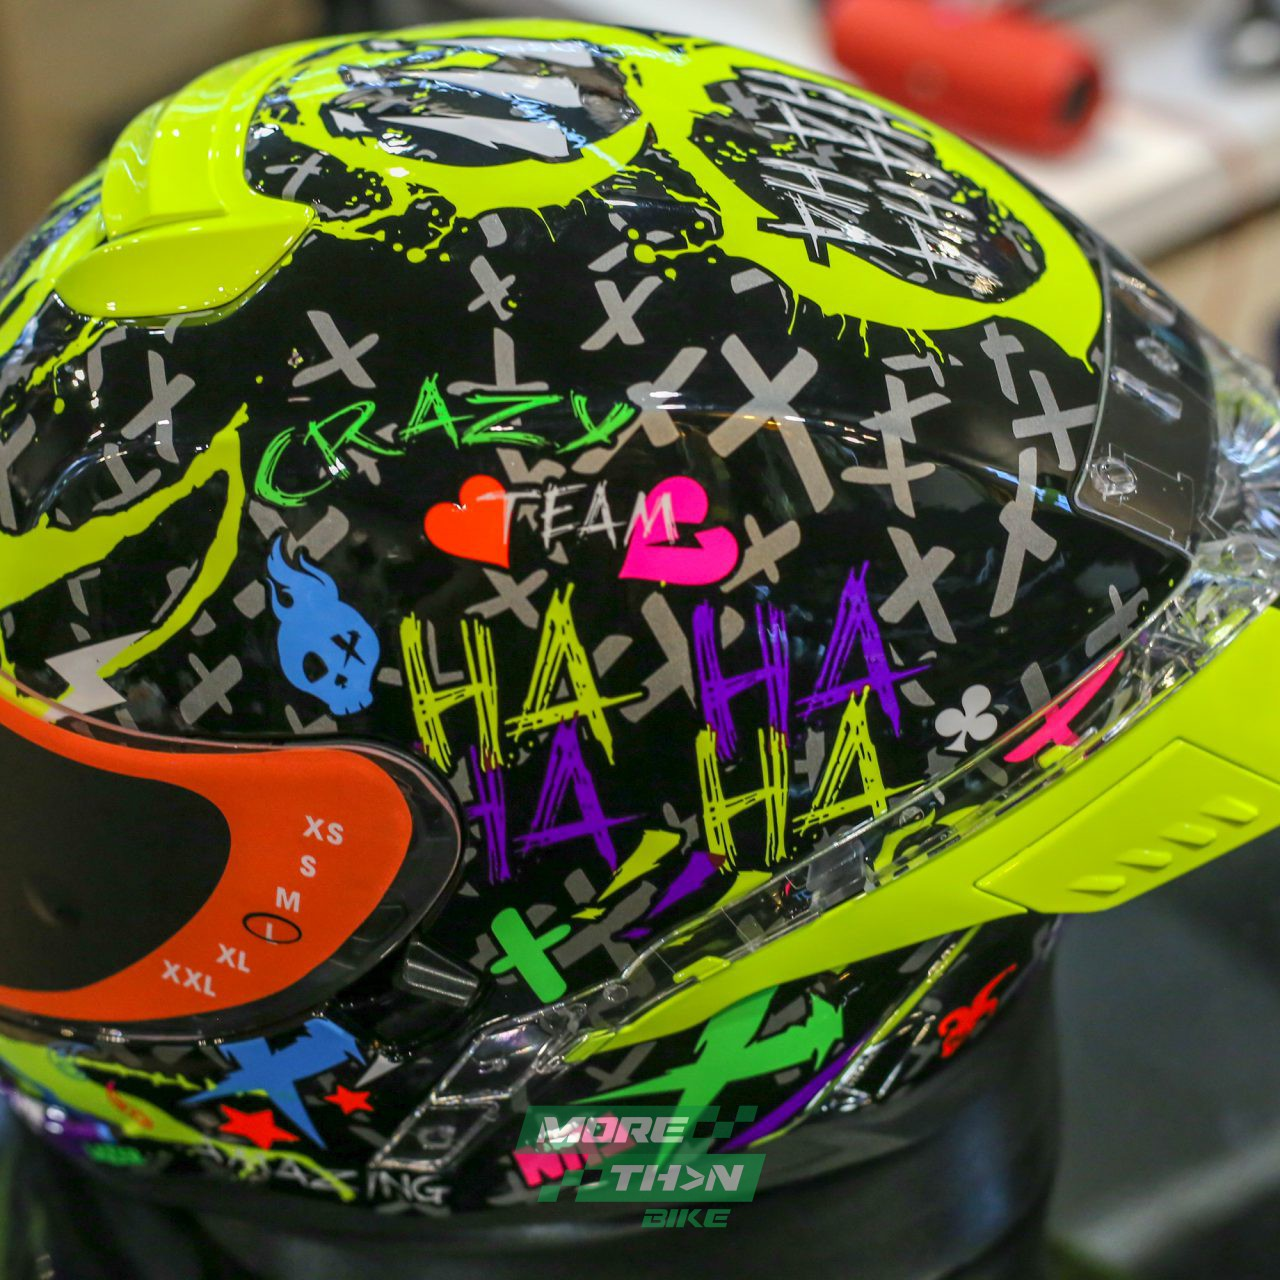helmet: (5, 21, 1280, 1216)
